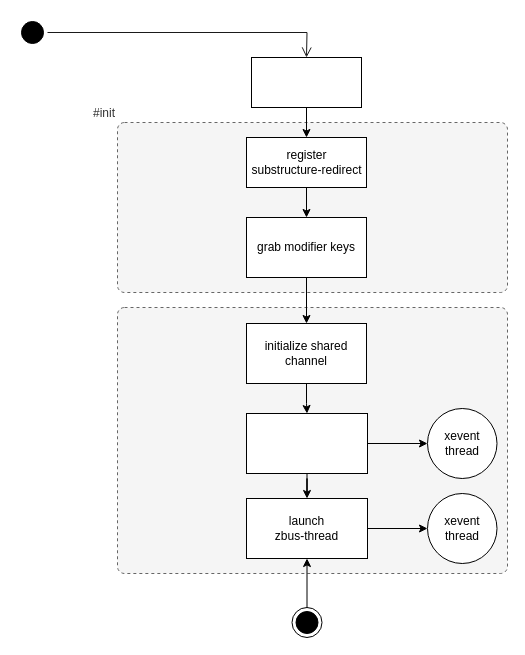
Image size: 525x655. Some labels were removed from this diagram. Here are the shapes that lost their labels. From the top down, the box of each, then its label:
(250, 56, 362, 108): main
(246, 412, 368, 474): launch xevent-thread
(116, 306, 508, 574): #threading
